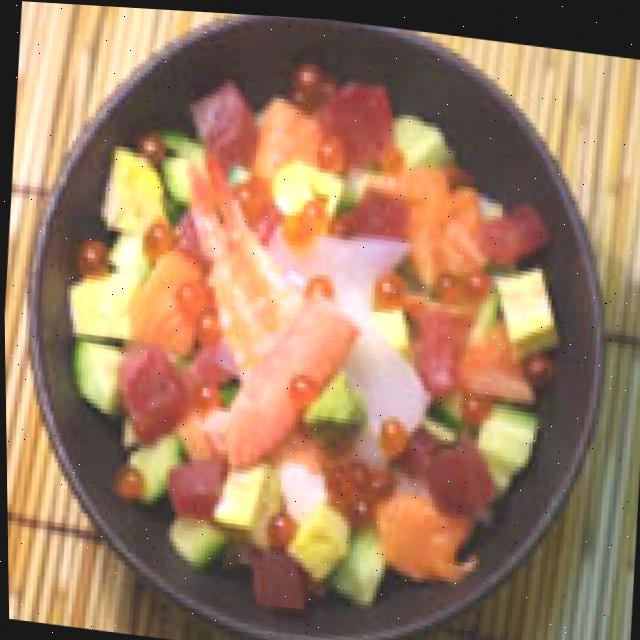刺身生食: (0, 0, 629, 640)
